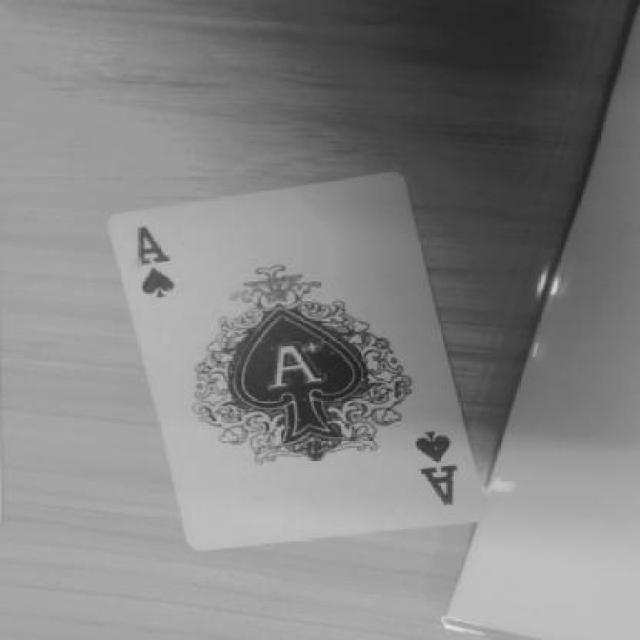AS: (411, 423, 484, 512), (124, 217, 194, 306)
